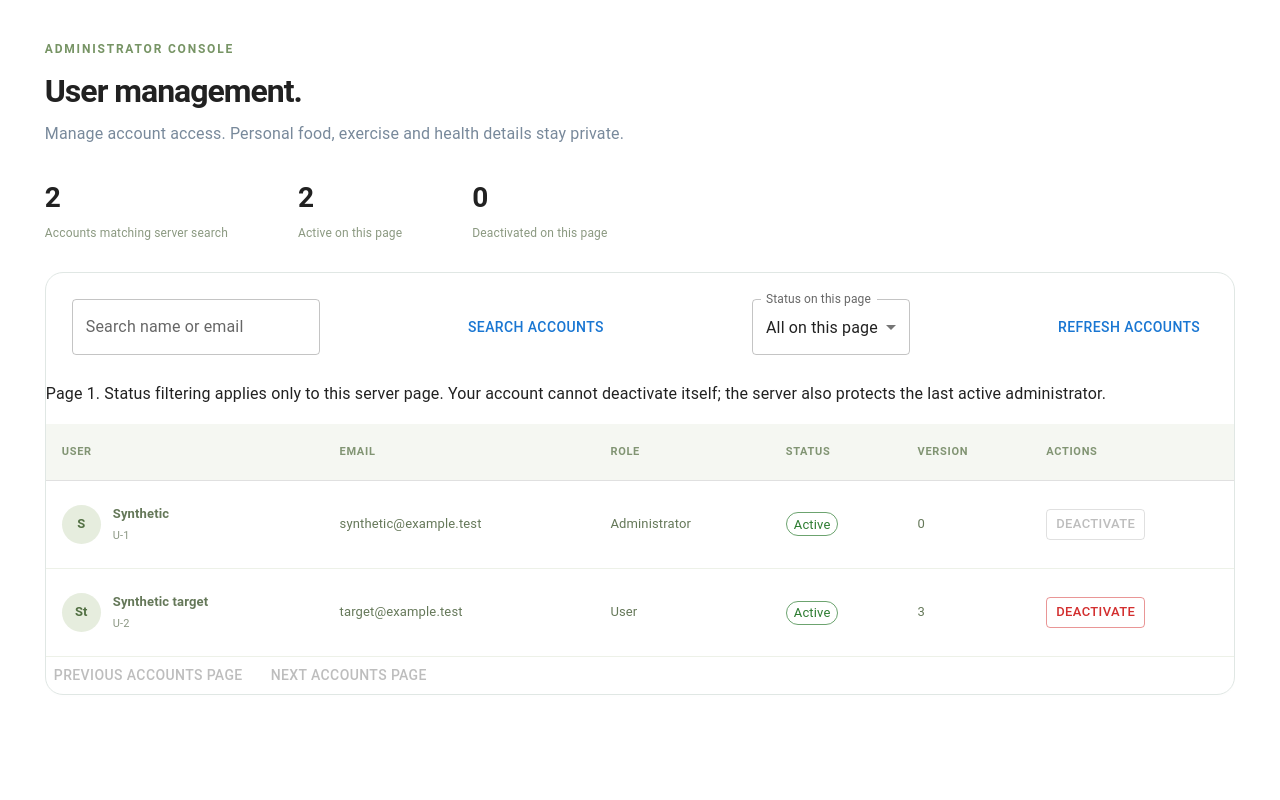
Test case: F16 real account management controls › reloads a known version conflict but never automatically repeats PATCH
The image size is (1280, 800).
Click the button with aria-label "Deactivate Synthetic target".
click(1096, 613)  # box [1046,597,1145,628]
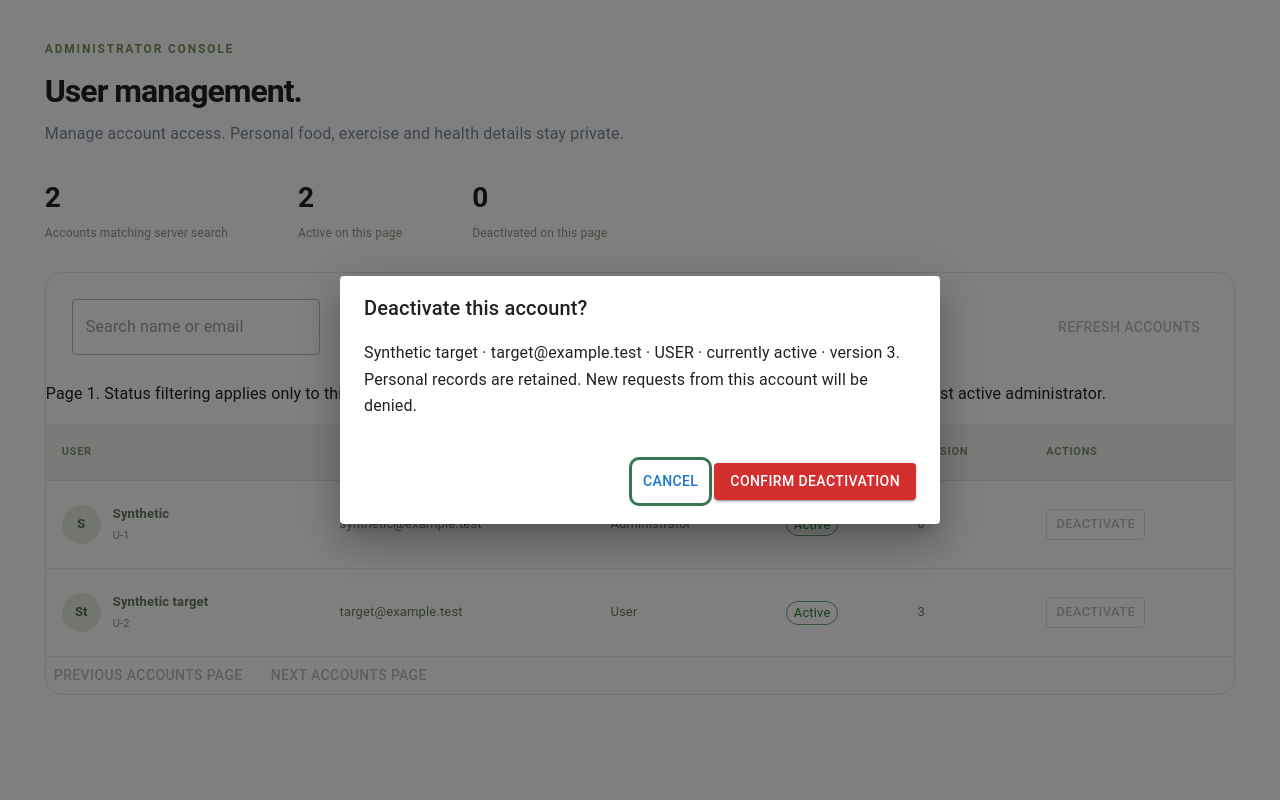
Click the button "Confirm deactivation".
click(815, 482)  # box [714,463,916,500]
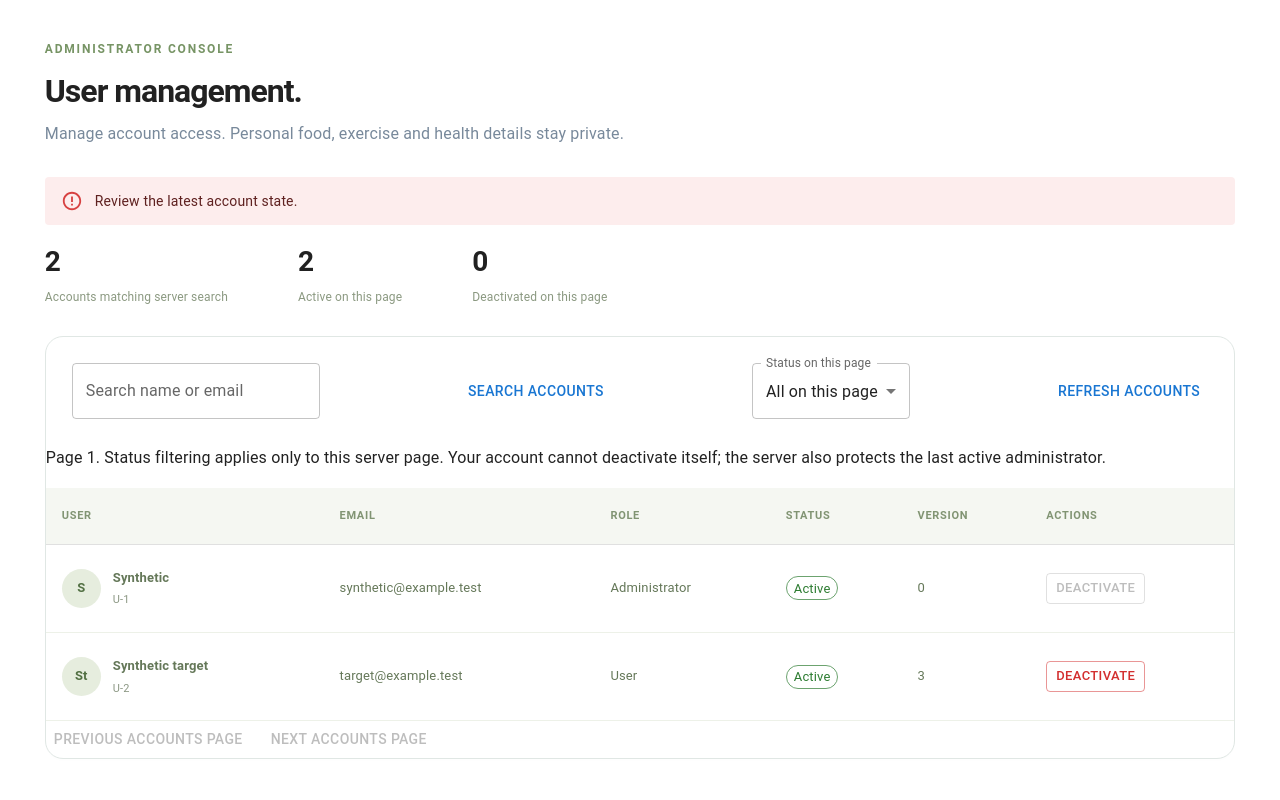
Now the text "Review the latest account state." is shown, box [95,193,298,209]
Now the dialog is gone
